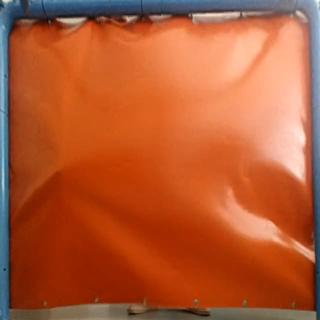Hit-hRxx: (54, 160, 68, 177)
